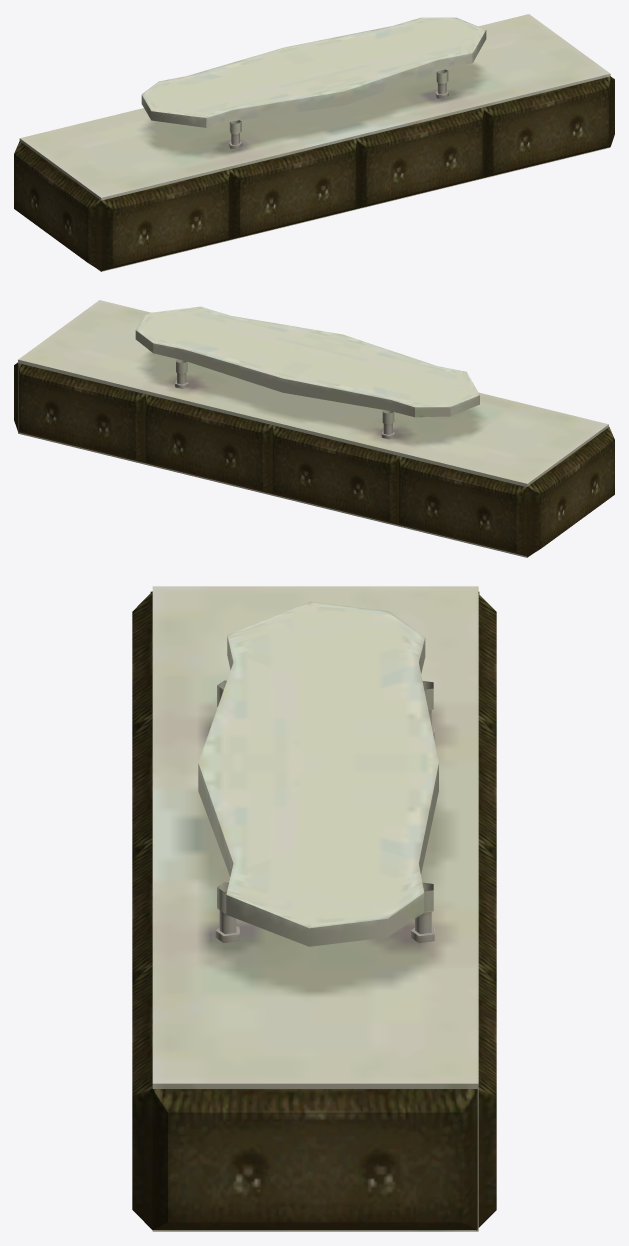
The model's file is furni_0200081_01.FBX.
3 views of the same model, one above another, from view 1: azimuth 30°, elevation 25°; view 2: azimuth 150°, elevation 25°; view 3: azimuth 270°, elevation 25° (orthographic). The views are drawn at different scales.
Visible parts, largest first — view 1: furni_0200081_01; view 2: furni_0200081_01; view 3: furni_0200081_01.
Part boxes in pixels (x1=…): furni_0200081_01: x1=14, y1=14, x2=614, y2=271; furni_0200081_01: x1=14, y1=300, x2=614, y2=557; furni_0200081_01: x1=132, y1=586, x2=496, y2=1231.
Bounding box in the file's own units: 248 × 49.56 × 74.34.
1 material, 1 textured.
